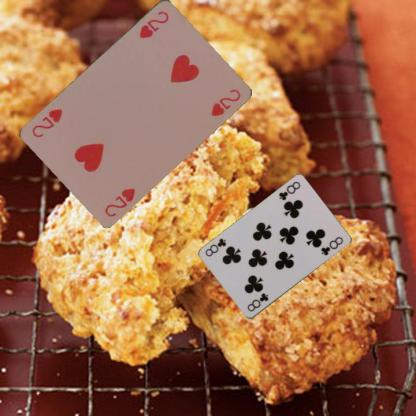2h: (102, 185, 136, 218), (136, 8, 171, 39)
8c: (276, 179, 302, 202), (244, 291, 270, 313)
